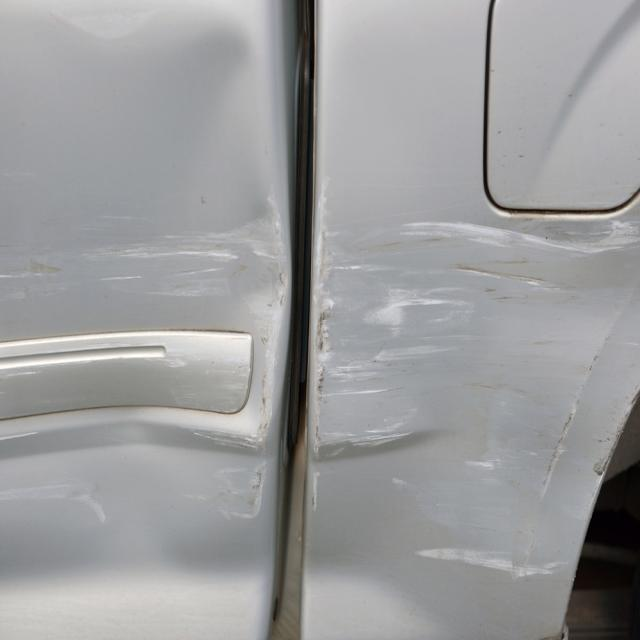Cabossage: (0, 430, 276, 631), (134, 18, 274, 220), (308, 428, 437, 640), (81, 327, 173, 485)
Rayure: (317, 180, 640, 594), (0, 368, 282, 526), (0, 184, 286, 338)
